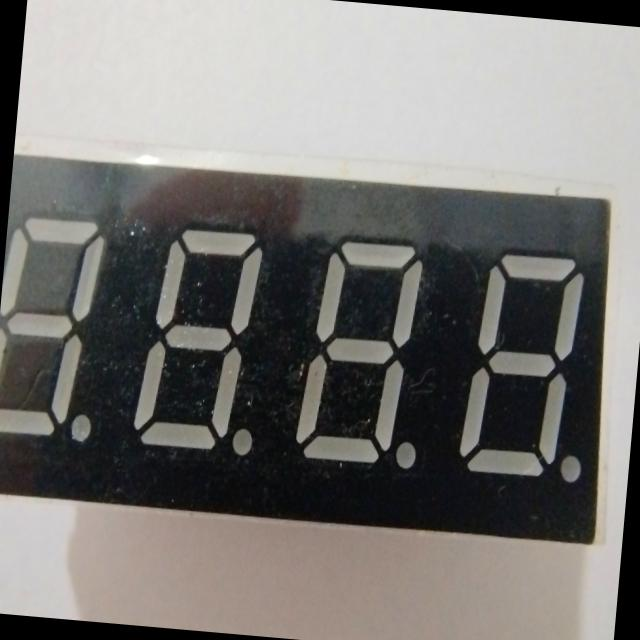7_segments_4_digits: (0, 126, 637, 566)
